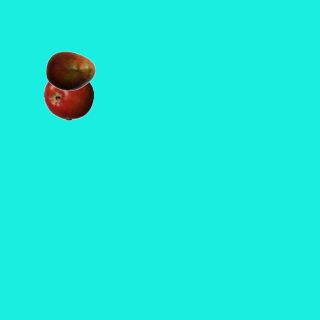Apple Braeburn: (43, 70, 93, 120)
Mango Red: (45, 45, 95, 95)
